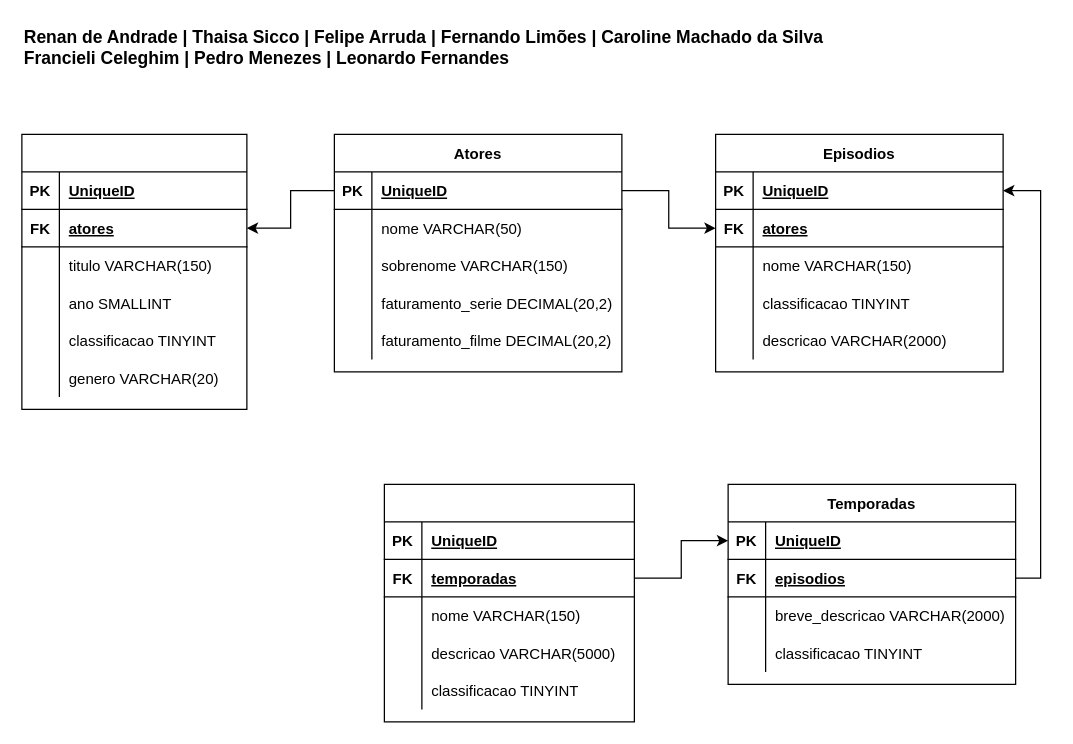
This 1073x744 diagram has some shape labels left out. Each missing label, with the box of its shape:
Filmes: (21, 133, 247, 409)
Series: (383, 483, 634, 722)
